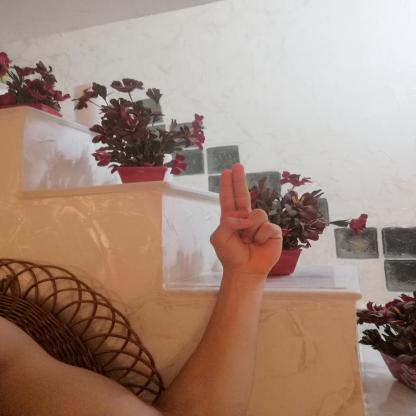TA: (198, 153, 290, 282)
